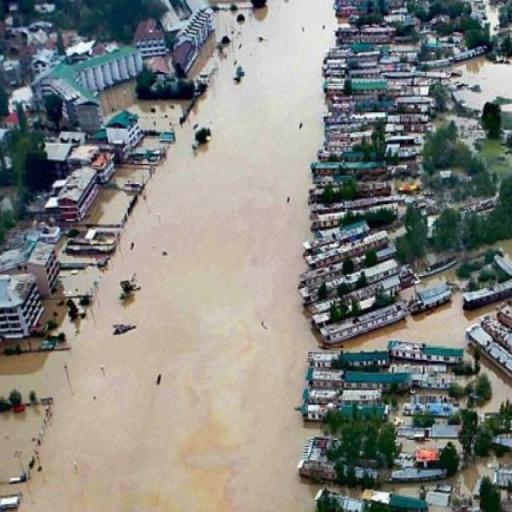flood: (0, 0, 336, 512), (344, 298, 469, 350), (384, 458, 512, 498), (417, 240, 512, 273), (454, 56, 512, 104), (400, 266, 465, 302), (481, 356, 512, 414), (99, 82, 134, 113), (498, 240, 512, 256)
house: (307, 350, 416, 392), (311, 300, 407, 343), (468, 304, 512, 380), (308, 229, 390, 265), (1, 274, 47, 337), (79, 45, 142, 89), (300, 389, 384, 420), (53, 170, 105, 220), (325, 82, 391, 112), (395, 338, 461, 365), (173, 29, 211, 73), (106, 108, 146, 148), (298, 437, 336, 479), (132, 20, 170, 56), (330, 118, 368, 152), (462, 282, 512, 306), (386, 126, 422, 156), (416, 283, 452, 312), (352, 44, 382, 76), (44, 136, 78, 164), (42, 241, 58, 295), (402, 94, 434, 119), (422, 365, 452, 391), (326, 48, 348, 79), (388, 42, 420, 62), (33, 47, 55, 75)
